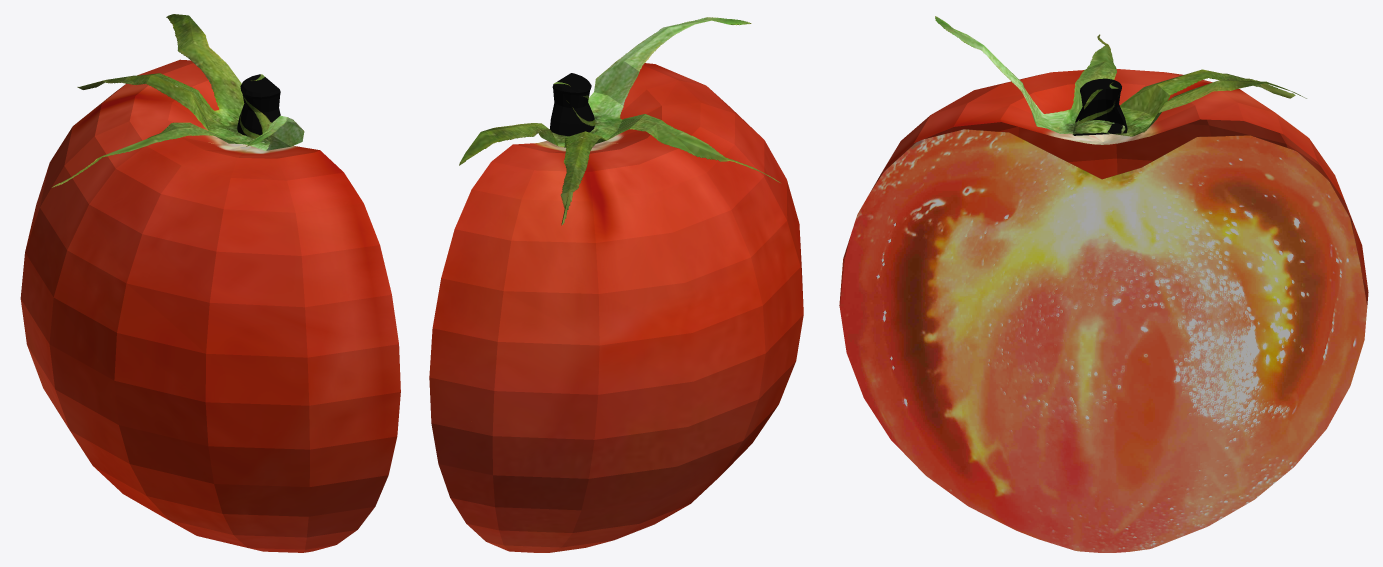
The model's file is tomato_left.obj.
The picture shows the model from 3 angles, left to right: view 1: azimuth 30°, elevation 25°; view 2: azimuth 150°, elevation 25°; view 3: azimuth 270°, elevation 25°; orthographic projection.
Parts seen in each view (by area): view 1: tomato_half; view 2: tomato_half; view 3: tomato_half.
Boxes of the visible parts, bbox=[...] form: tomato_half: bbox=[20, 14, 400, 552]; tomato_half: bbox=[429, 17, 803, 552]; tomato_half: bbox=[839, 16, 1368, 552].
Size of the model in its own units: 0.0415 by 0.0771 by 0.076.
